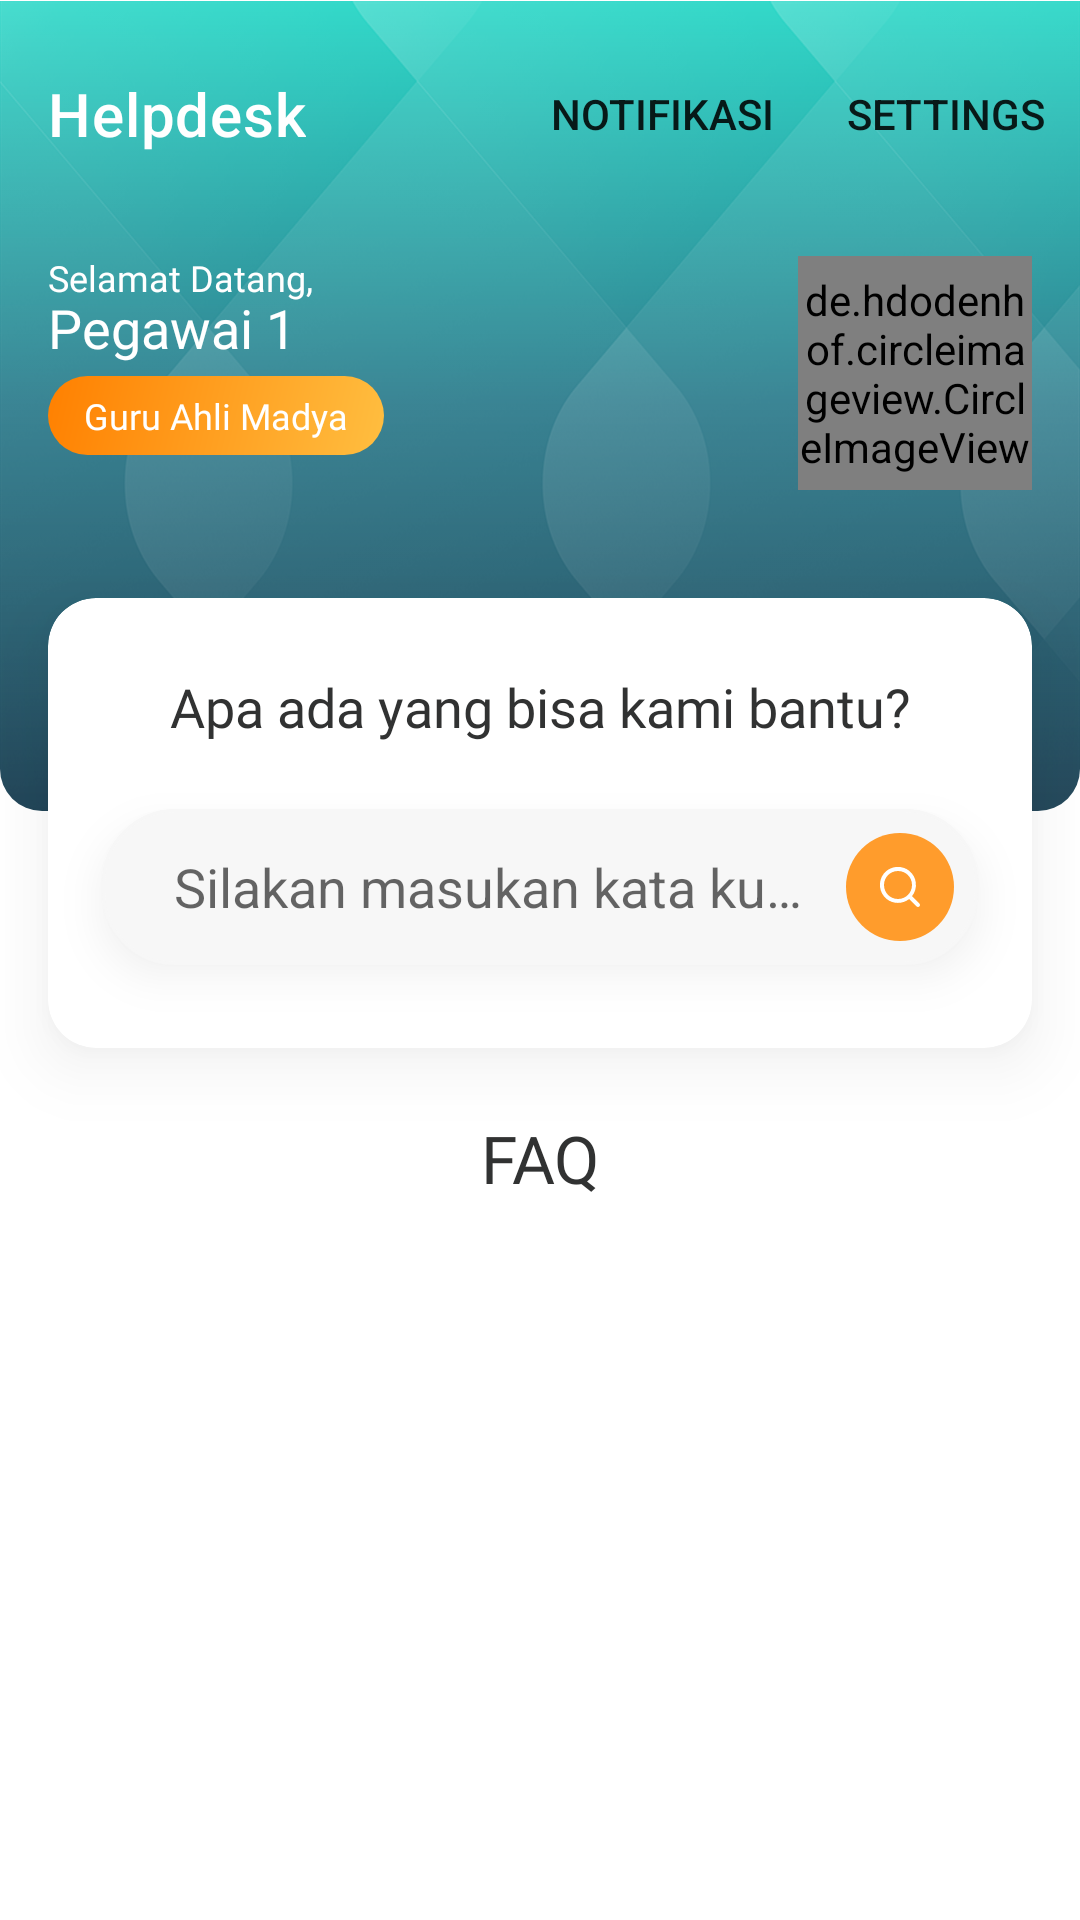

Icons on this 1080*1920 Android screen, each with its box as (x1, y1, x2, y2):
search: (846, 833, 954, 941)
